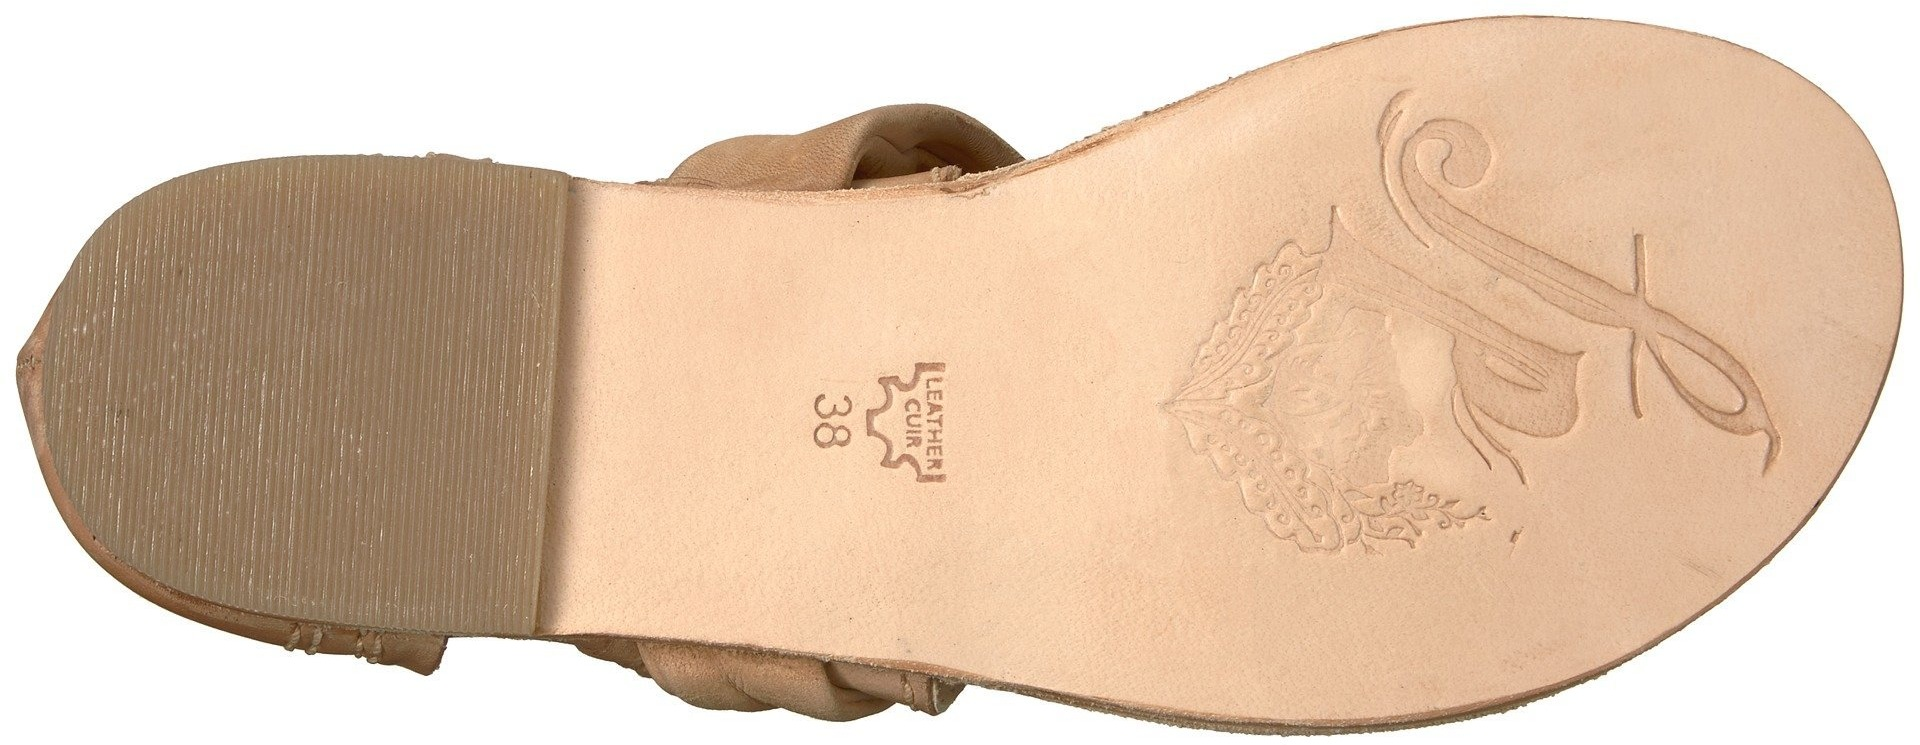exclude: (538, 121, 992, 698)
other: (44, 154, 571, 637)
text: (901, 374, 951, 477), (800, 379, 862, 456)
